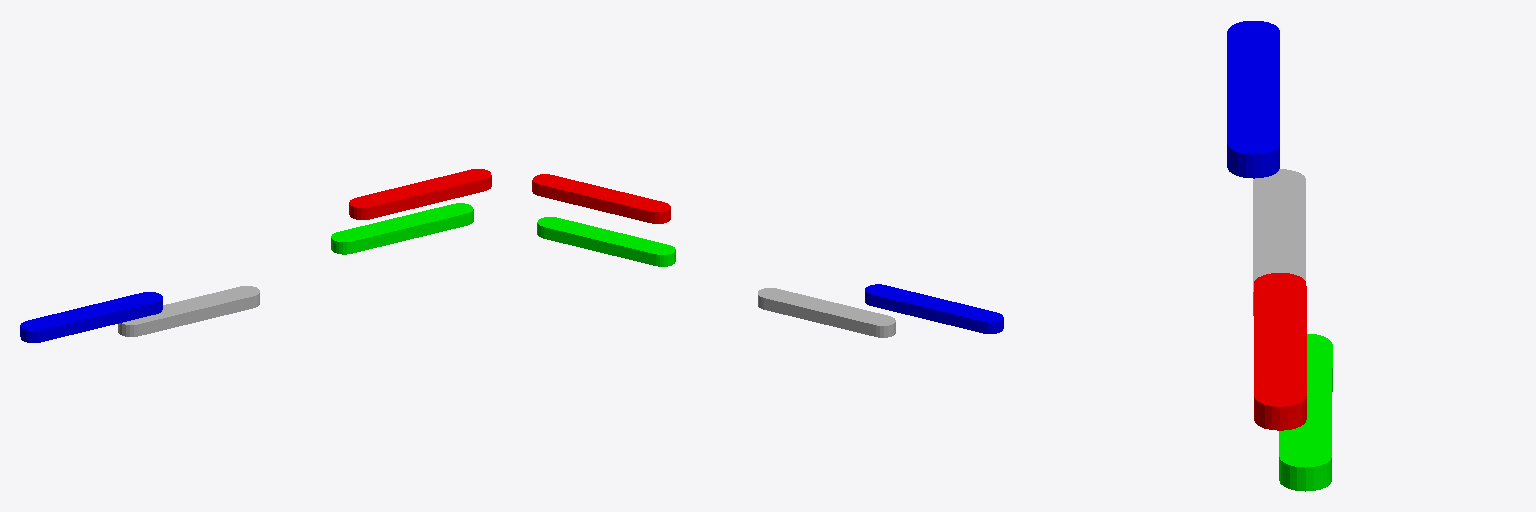
The robot description file, URDF, robot "3Arm10.4.SLDASM":
<robot
  name="3Arm10.4.SLDASM">
  <link
    name="base_link">
    <inertial>
      <origin
        xyz="0.01016 0.00254 0.00127"
        rpy="0 0 0" />
      <mass
        value="0.00037922" />
      <inertia
        ixx="0"
        ixy="0"
        ixz="0"
        iyy="0"
        iyz="0"
        izz="0" />
    </inertial>
    <visual>
      <origin
        xyz="0 0 0"
        rpy="0 0 0" />
      <geometry>
        <mesh
          filename="package://3Arm10.4.SLDASM/meshes/base_link.STL" />
      </geometry>
      <material
        name="">
        <color
          rgba="0.75294 0.75294 0.75294 1" />
      </material>
    </visual>
    <collision>
      <origin
        xyz="0 0 0"
        rpy="0 0 0" />
      <geometry>
        <mesh
          filename="package://3Arm10.4.SLDASM/meshes/base_link.STL" />
      </geometry>
    </collision>
  </link>
  <link
    name="linkMid">
    <inertial>
      <origin
        xyz="0.0127 0.00127 -8.6736E-19"
        rpy="0 0 0" />
      <mass
        value="0.00037922" />
      <inertia
        ixx="0"
        ixy="0"
        ixz="0"
        iyy="0"
        iyz="0"
        izz="0" />
    </inertial>
    <visual>
      <origin
        xyz="0 0 0"
        rpy="0 0 0" />
      <geometry>
        <mesh
          filename="package://3Arm10.4.SLDASM/meshes/linkMid.STL" />
      </geometry>
      <material
        name="">
        <color
          rgba="0 1 0 1" />
      </material>
    </visual>
    <collision>
      <origin
        xyz="0 0 0"
        rpy="0 0 0" />
      <geometry>
        <mesh
          filename="package://3Arm10.4.SLDASM/meshes/linkMid.STL" />
      </geometry>
    </collision>
  </link>
  <joint
    name="Joint1"
    type="revolute">
    <origin
      xyz="0.02286 0.00254 0.00254"
      rpy="1.5707963267949 -4.97156174130486E-20 -0.000811944552147837" />
    <parent
      link="base_link" />
    <child
      link="linkMid" />
    <axis
      xyz="0 1 0" />
  </joint>
  <link
    name="LinkMid2">
    <inertial>
      <origin
        xyz="-0.0127 0.00127 -4.3368E-19"
        rpy="0 0 0" />
      <mass
        value="0.00037922" />
      <inertia
        ixx="0"
        ixy="0"
        ixz="0"
        iyy="0"
        iyz="0"
        izz="0" />
    </inertial>
    <visual>
      <origin
        xyz="0 0 0"
        rpy="0 0 0" />
      <geometry>
        <mesh
          filename="package://3Arm10.4.SLDASM/meshes/LinkMid2.STL" />
      </geometry>
      <material
        name="">
        <color
          rgba="1 0 0 1" />
      </material>
    </visual>
    <collision>
      <origin
        xyz="0 0 0"
        rpy="0 0 0" />
      <geometry>
        <mesh
          filename="package://3Arm10.4.SLDASM/meshes/LinkMid2.STL" />
      </geometry>
    </collision>
  </link>
  <joint
    name="Joint2"
    type="revolute">
    <origin
      xyz="0.0254 0.00254 0"
      rpy="3.1416 -0.0017348 -3.1416" />
    <parent
      link="linkMid" />
    <child
      link="LinkMid2" />
    <axis
      xyz="0 1 0" />
    <limit
      effort="0"
      velocity="0" />
  </joint>
  <link
    name="LinkEnd">
    <inertial>
      <origin
        xyz="-0.0127 -0.00127 -4.3368E-19"
        rpy="0 0 0" />
      <mass
        value="0.00037922" />
      <inertia
        ixx="0"
        ixy="0"
        ixz="0"
        iyy="0"
        iyz="0"
        izz="0" />
    </inertial>
    <visual>
      <origin
        xyz="0 0 0"
        rpy="0 0 0" />
      <geometry>
        <mesh
          filename="package://3Arm10.4.SLDASM/meshes/LinkEnd.STL" />
      </geometry>
      <material
        name="">
        <color
          rgba="0 0 1 1" />
      </material>
    </visual>
    <collision>
      <origin
        xyz="0 0 0"
        rpy="0 0 0" />
      <geometry>
        <mesh
          filename="package://3Arm10.4.SLDASM/meshes/LinkEnd.STL" />
      </geometry>
    </collision>
  </link>
  <joint
    name="Joint3"
    type="continuous">
    <origin
      xyz="0.0508 -0.00508 6.7502E-05"
      rpy="3.1416 0.00092281 3.1416" />
    <parent
      link="LinkMid2" />
    <child
      link="LinkEnd" />
    <axis
      xyz="0 1 0" />
  </joint>
</robot>

--- What the picture shows (computed from the rendered views, not written in the file) ---
Views: 3 orthographic renders of the robot side by side, from view 1: azimuth 30°, elevation 25°; view 2: azimuth 150°, elevation 25°; view 3: azimuth 270°, elevation 25°.
Model 3Arm10.4.SLDASM with 4 links and 3 joints (2 revolute, 1 continuous), rooted at base_link, posed all joints at 0.
Visible links, largest first — view 1: linkMid, LinkEnd, LinkMid2, base_link; view 2: linkMid, LinkEnd, LinkMid2, base_link; view 3: LinkMid2, LinkEnd, linkMid, base_link.
Link boxes in pixels (left/top/right/bottom): linkMid: left=331, top=203, right=473, bottom=254; LinkEnd: left=20, top=292, right=162, bottom=342; LinkMid2: left=349, top=169, right=491, bottom=219; base_link: left=118, top=286, right=259, bottom=336; linkMid: left=537, top=217, right=675, bottom=266; LinkEnd: left=865, top=284, right=1003, bottom=333; LinkMid2: left=532, top=174, right=670, bottom=223; base_link: left=758, top=288, right=895, bottom=337; LinkMid2: left=1254, top=273, right=1306, bottom=430; LinkEnd: left=1227, top=21, right=1279, bottom=178; linkMid: left=1279, top=334, right=1332, bottom=491; base_link: left=1253, top=169, right=1305, bottom=315.
Size in the robot's own frame: 0.1041 by 0.0101 by 0.0152 metres.
Meshes: 4 distinct files referenced, 4 mesh visuals loaded (4 binary STL).